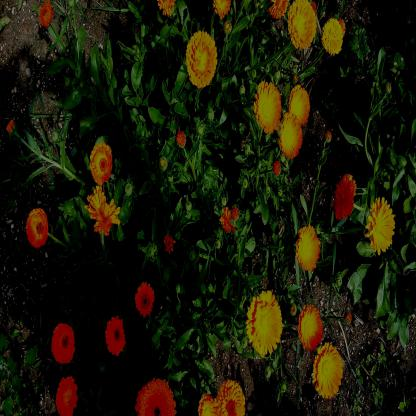marigold: (246, 288, 283, 356), (186, 29, 218, 90), (312, 340, 343, 400), (365, 196, 396, 255), (86, 184, 121, 236), (286, 0, 318, 50), (254, 79, 282, 133), (297, 302, 323, 351), (294, 225, 320, 270), (279, 111, 303, 159), (332, 172, 356, 220), (51, 322, 75, 365), (89, 141, 112, 183), (105, 315, 127, 358), (55, 375, 78, 415), (288, 84, 310, 124), (321, 16, 343, 56), (26, 208, 48, 247), (135, 280, 154, 318)
